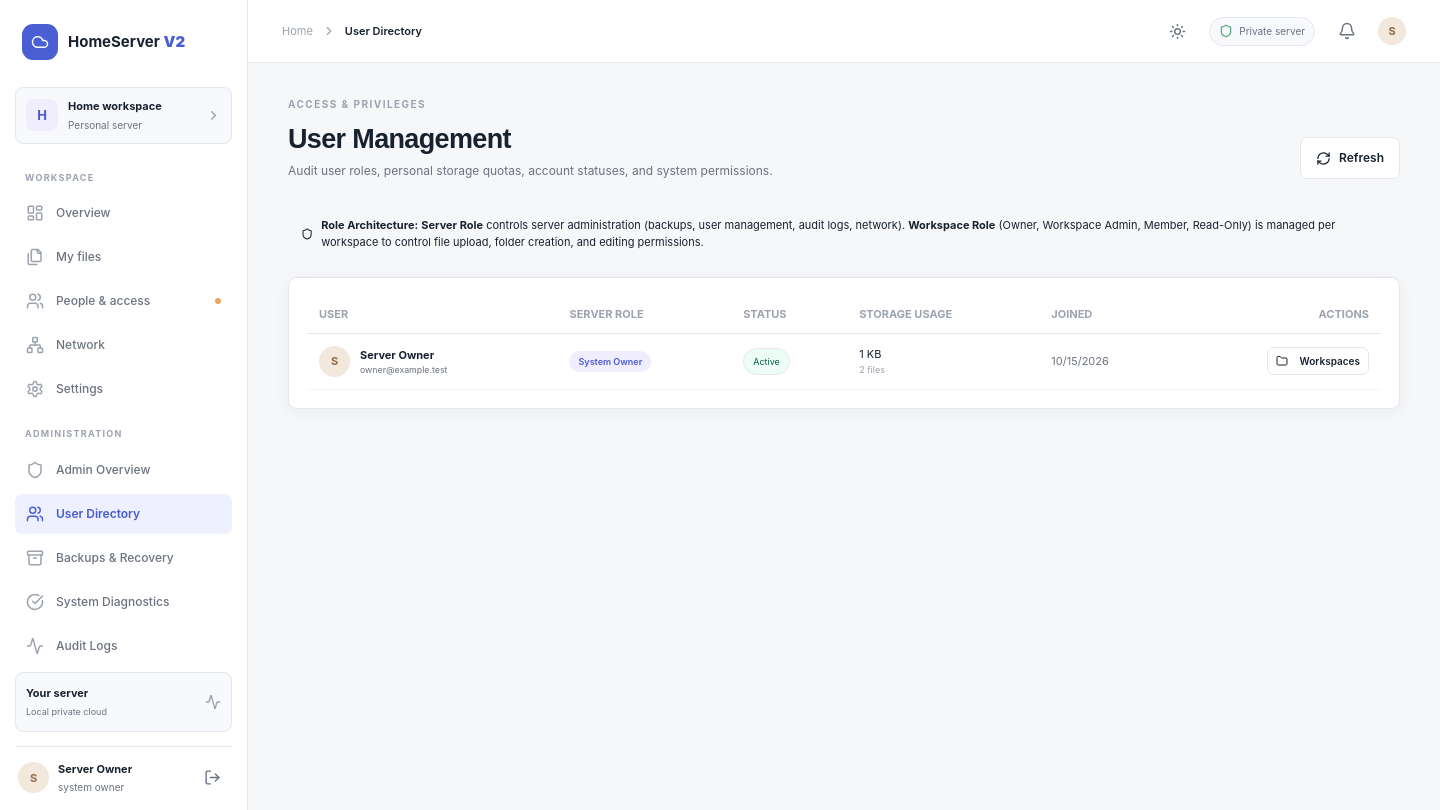
it: HomeServer V2 user flows › renders workspace access modal in Admin User Directory
The image size is (1440, 810).
Expected: the heading "User Management" is shown, [288, 124, 511, 154]
Click the button "Workspaces" at point(1318, 361), box [1267, 347, 1369, 375]
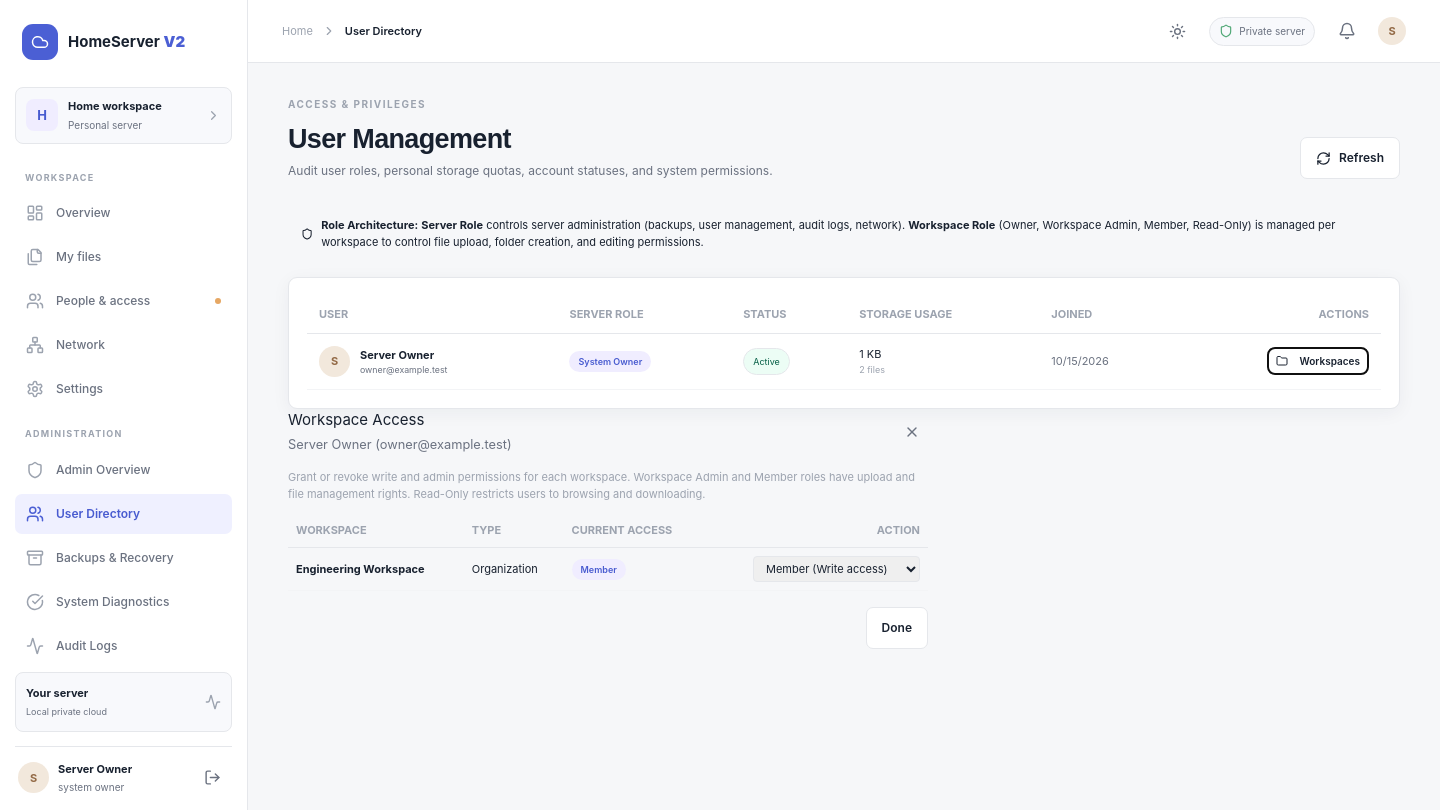
Expected: the heading "Workspace Access" is shown, [288, 410, 424, 429]
Expected: the text "Engineering Workspace" is shown, [296, 562, 425, 576]
